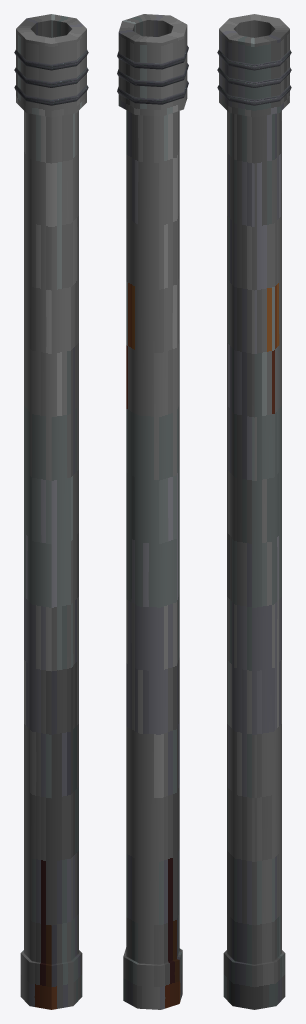
The model's file is steel_pipe.glb.
3 renders of one model, left to right at view 1: azimuth 90°, elevation 25°; view 2: azimuth 150°, elevation 25°; view 3: azimuth 270°, elevation 25°, orthographic.
Parts seen in each view (by area): view 1: steel_pipe; view 2: steel_pipe; view 3: steel_pipe.
Part boxes in pixels (left/top/right/bottom): steel_pipe: left=14, top=14, right=88, bottom=1009; steel_pipe: left=117, top=14, right=188, bottom=1009; steel_pipe: left=217, top=14, right=291, bottom=1009.
Bounding box in the file's own units: 0.046 × 0.66 × 0.046.
1 material, 1 textured.
